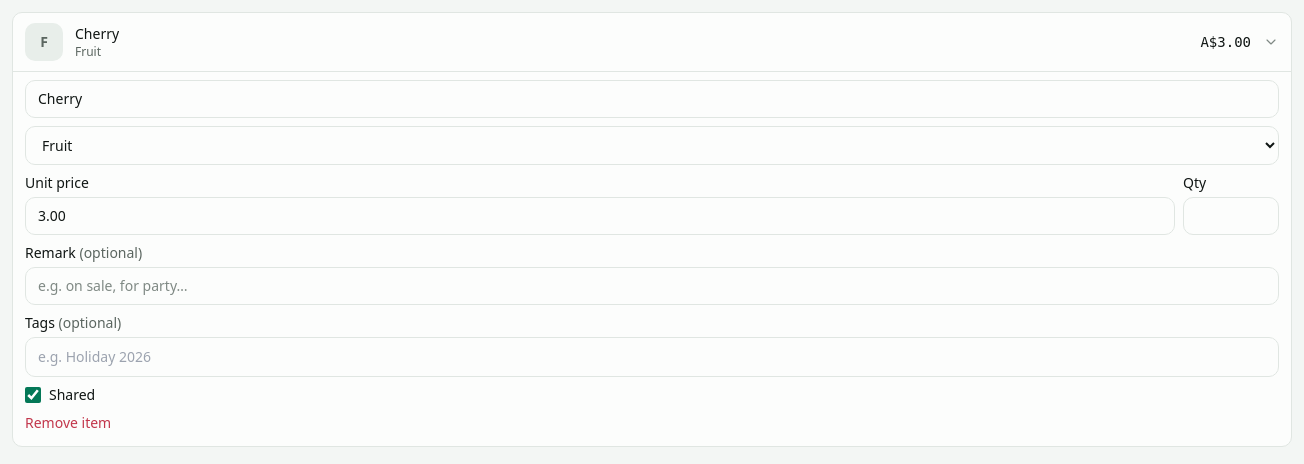
Test: ItemRow › resets the armed label back on blur
Click the button "Remove item".
click(68, 423)  # box [25,413,111,433]
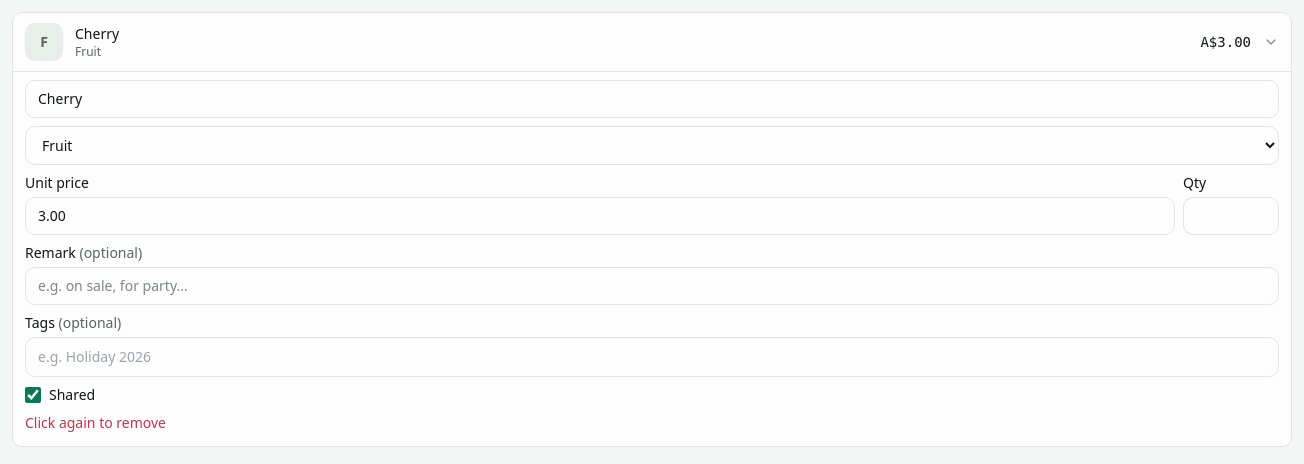
Now the button "Click again to remove" is shown
Leave the button "Click again to remove", box [25,413,166,433]
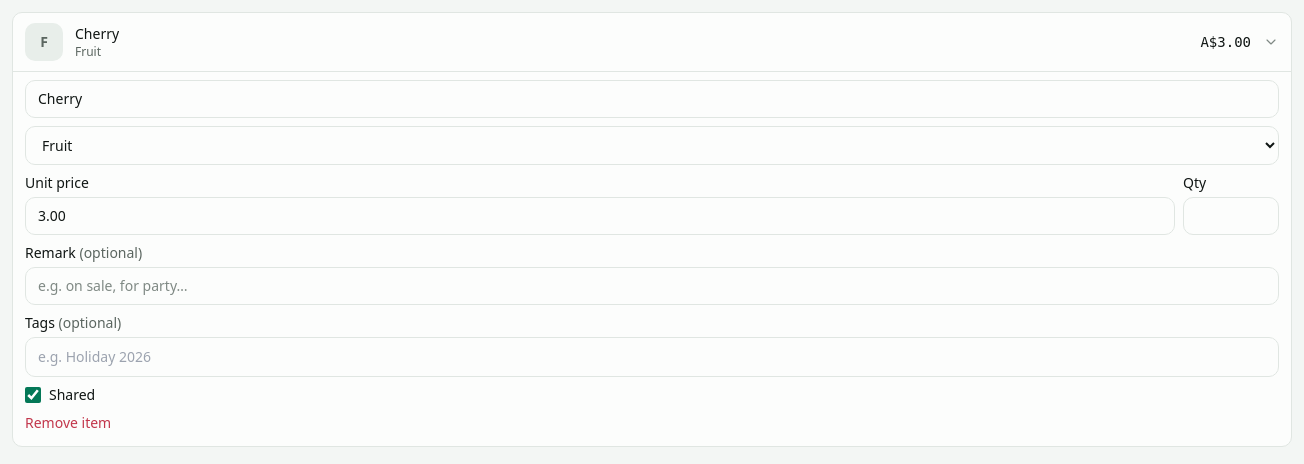
Now the button "Remove item" is shown, box [25,413,111,433]
